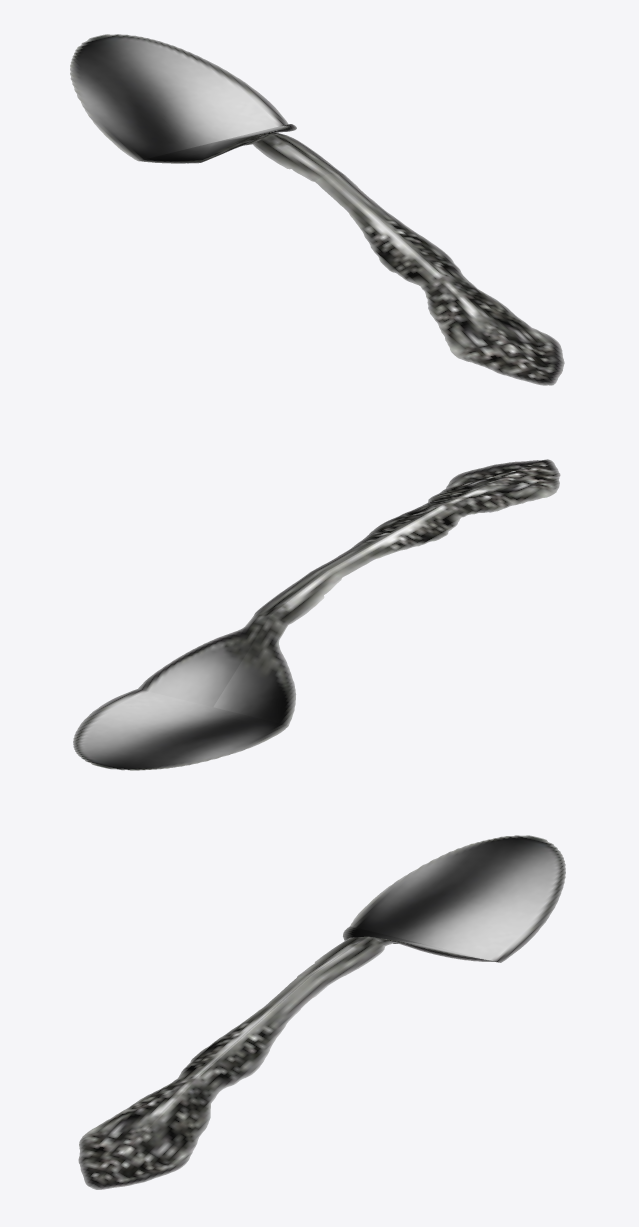
Rendered from Spoon_Soup.fbx.
The picture shows the model from 3 angles, top to bottom: view 1: azimuth 30°, elevation 25°; view 2: azimuth 150°, elevation 25°; view 3: azimuth 330°, elevation 25°; orthographic projection.
Parts seen in each view (by area): view 1: Spoon_Soup_LOD0; view 2: Spoon_Soup_LOD0; view 3: Spoon_Soup_LOD0.
Part boxes in pixels (x1,y1,x2,y2): Spoon_Soup_LOD0: (70, 34, 564, 385); Spoon_Soup_LOD0: (73, 459, 560, 770); Spoon_Soup_LOD0: (78, 835, 565, 1189).
Size of what is drawn, in the model's own units: 9.99 by 2.96 by 46.8.
